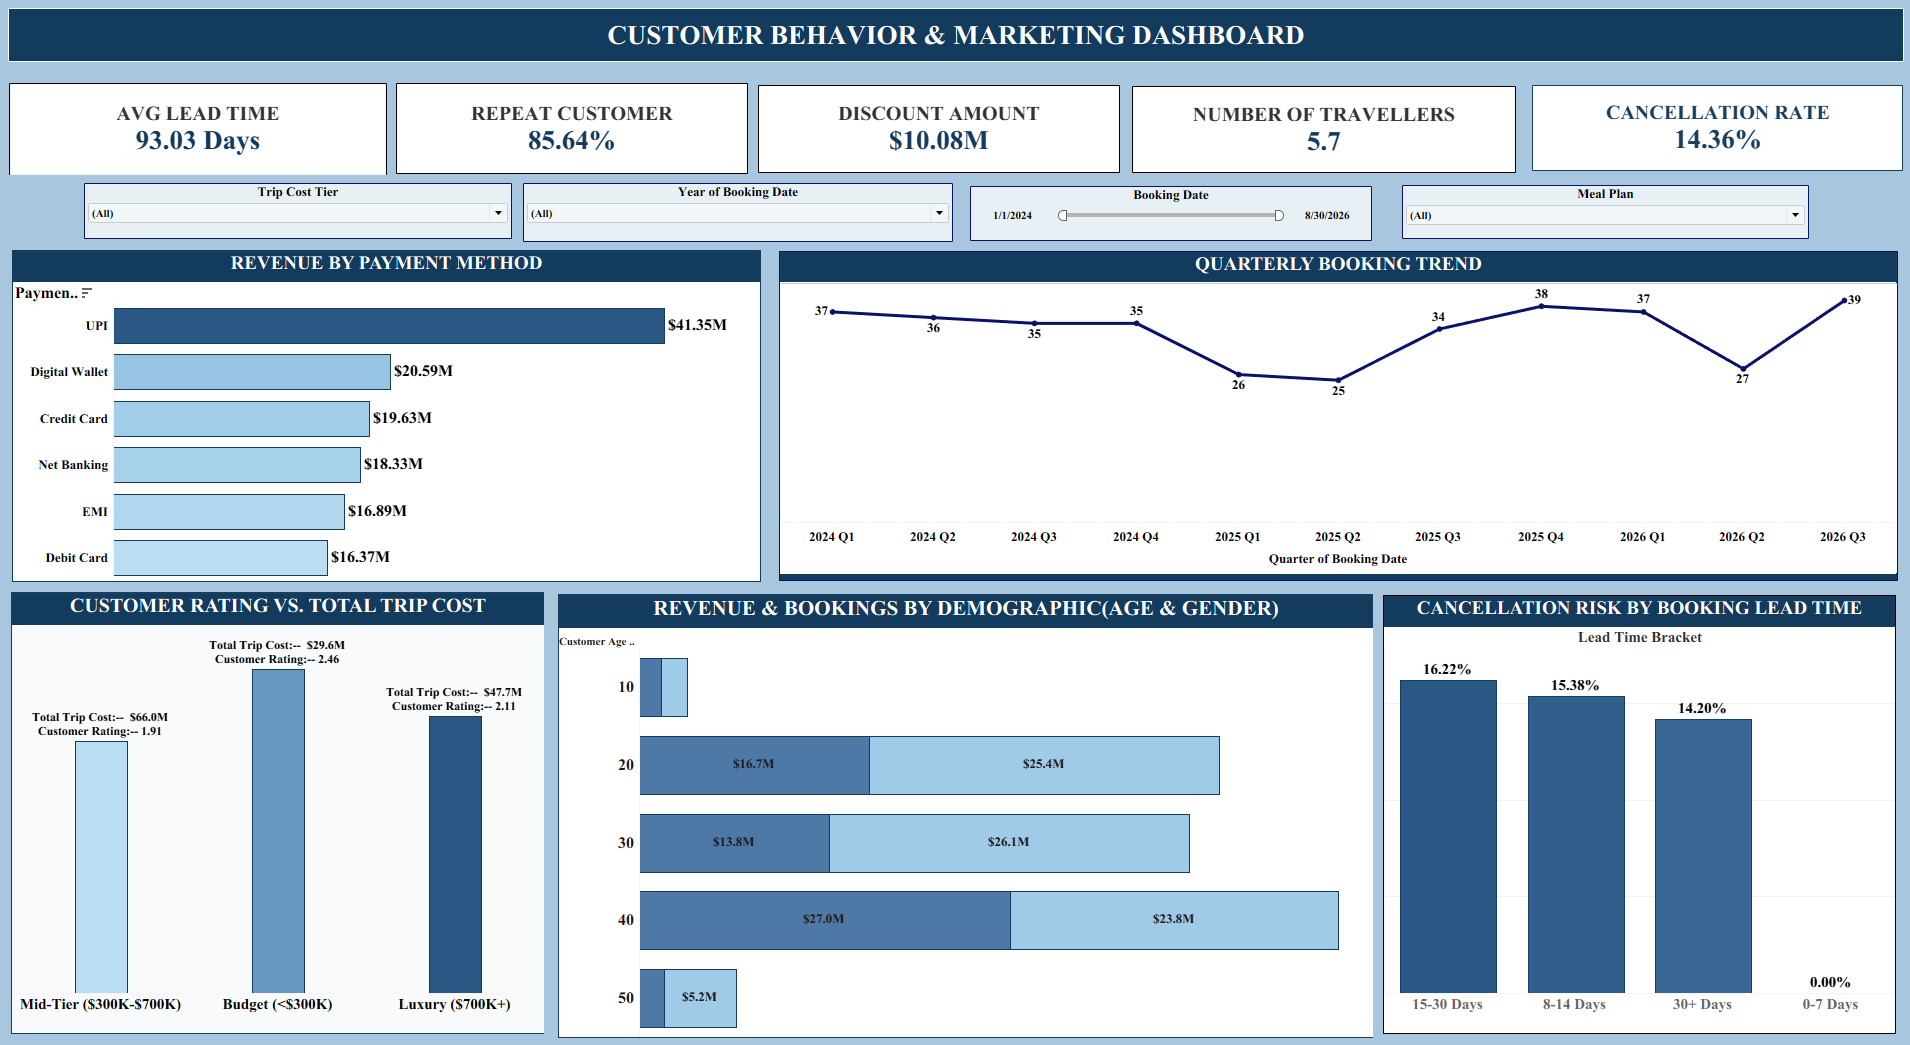

This screenshot's page, from the dashboard's own definition file:
{"tool":"tableau","page":{"name":"CUSTOMER BEHAVIOR & MARKETING DASHBOARDS 2","canvas":[1000,1000],"units":"permille","ordinal":0},"visuals":[{"type":"title","box":[4.2,8.9,991.6,69.2]},{"type":"worksheet","title":"Page2 kpi 1- Avg lead time","mark":"Automatic","box":[6.9,82.6,196.7,88.2]},{"type":"worksheet","title":"page2 kpi 2-Repeat Customer","mark":"Automatic","box":[208.1,82.6,183.5,87]},{"type":"worksheet","title":"Page2 kpi 3- Total Discount","mark":"Automatic","box":[396.8,84.8,188.7,83.7]},{"type":"worksheet","title":"KPI_Cancellation_Rate","mark":"Automatic","box":[799.9,84.8,193.2,81.5]},{"type":"worksheet","title":"page2 kpi 4 number of traveller","mark":"Automatic","box":[591.8,85.9,200.1,82.6]},{"type":"filter","title":"QUARTERLY BOOKING TREND","param":"[federated.03ev4bz1dh5vj71g43w0y11zg9yx].[none:Calculation_1548438591492097:nk]","box":[45.6,178.6,222.9,53.6]},{"type":"filter","title":"QUARTERLY BOOKING TREND","param":"[federated.03ev4bz1dh5vj71g43w0y11zg9yx].[yr:Booking_Date:ok]","box":[274.6,178.6,223.9,55.8]},{"type":"filter","title":"QUARTERLY BOOKING TREND","param":"[federated.03ev4bz1dh5vj71g43w0y11zg9yx].[none:Meal_Plan:nk]","box":[732.3,179.7,211.7,51.3]},{"type":"filter","title":"QUARTERLY BOOKING TREND","param":"[federated.03ev4bz1dh5vj71g43w0y11zg9yx].[none:Booking_Date:qk]","box":[507.4,180.8,209.6,52.5]},{"type":"worksheet","title":"Chart_Payment method","mark":"Automatic","rows":["Payment_Method"],"cols":["Total_Trip_Cost"],"box":[8.2,242.2,390.3,315.9]},{"type":"worksheet","title":"QUARTERLY BOOKING TREND","mark":"Line","rows":["Calculation_3004741472952320"],"cols":["Booking_Date"],"box":[407.8,243.3,582.8,314.7]},{"type":"worksheet","title":"Chart_Rating_vs_TripCost","mark":"Automatic","rows":["Customer_Rating"],"cols":["Calculation_1548438591492097"],"box":[7.6,568.1,277.9,420.8]},{"type":"worksheet","title":"Chart_Customer_Demographics","mark":"Automatic","rows":["Customer Age (bin)"],"cols":["Total_Trip_Cost"],"box":[292.6,569.2,424.8,423]},{"type":"worksheet","title":"Chart_LeadTime_vs_Cancellation","mark":"Automatic","rows":["Calculation_1453330208542721"],"cols":["Calculation_1548438584807424"],"box":[722.6,570.3,267.4,418.5]}]}

Visuals, with their boxes on the dashboard's canvas, which has no fixed pixel size, in thousandths of its width and height (x1, y1, x2, y2). These are canvas units, not pixel positions in the 1910x1045 screenshot, which may show the page scaled, cropped or inside an application window:
title: {"left": 4, "top": 9, "right": 996, "bottom": 78}
"Page2 kpi 1- Avg lead time" worksheet: {"left": 7, "top": 83, "right": 204, "bottom": 171}
"page2 kpi 2-Repeat Customer" worksheet: {"left": 208, "top": 83, "right": 392, "bottom": 170}
"Page2 kpi 3- Total Discount" worksheet: {"left": 397, "top": 85, "right": 586, "bottom": 168}
"KPI_Cancellation_Rate" worksheet: {"left": 800, "top": 85, "right": 993, "bottom": 166}
"page2 kpi 4 number of traveller" worksheet: {"left": 592, "top": 86, "right": 792, "bottom": 168}
"QUARTERLY BOOKING TREND" filter: {"left": 46, "top": 179, "right": 268, "bottom": 232}
"QUARTERLY BOOKING TREND" filter: {"left": 275, "top": 179, "right": 498, "bottom": 234}
"QUARTERLY BOOKING TREND" filter: {"left": 732, "top": 180, "right": 944, "bottom": 231}
"QUARTERLY BOOKING TREND" filter: {"left": 507, "top": 181, "right": 717, "bottom": 233}
"Chart_Payment method" worksheet: {"left": 8, "top": 242, "right": 398, "bottom": 558}
"QUARTERLY BOOKING TREND" worksheet (Line marks): {"left": 408, "top": 243, "right": 991, "bottom": 558}
"Chart_Rating_vs_TripCost" worksheet: {"left": 8, "top": 568, "right": 286, "bottom": 989}
"Chart_Customer_Demographics" worksheet: {"left": 293, "top": 569, "right": 717, "bottom": 992}
"Chart_LeadTime_vs_Cancellation" worksheet: {"left": 723, "top": 570, "right": 990, "bottom": 989}
